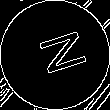N_W: (25, 28, 85, 82)
